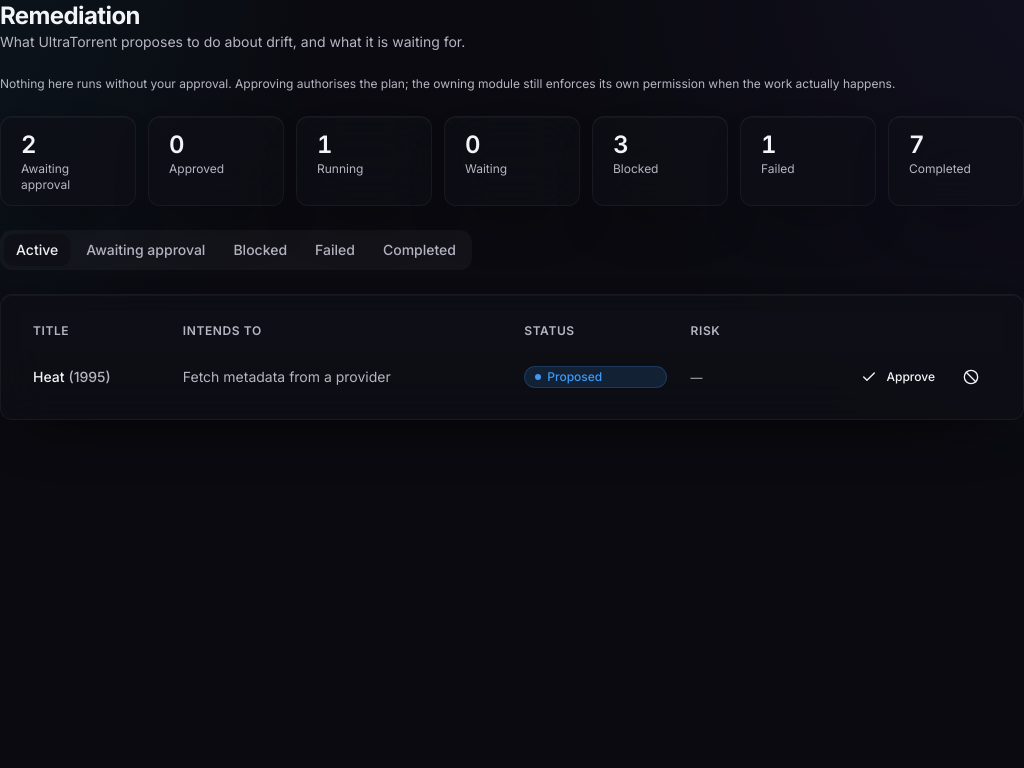
Test: stopping a plan › warns that completed work is not undone
This screenshot has width=1024, height=768.
Expected: the button "Heat" is shown, [33,367,64,387]
Click the button named "Stop": (971, 377) [951,361,991,393]
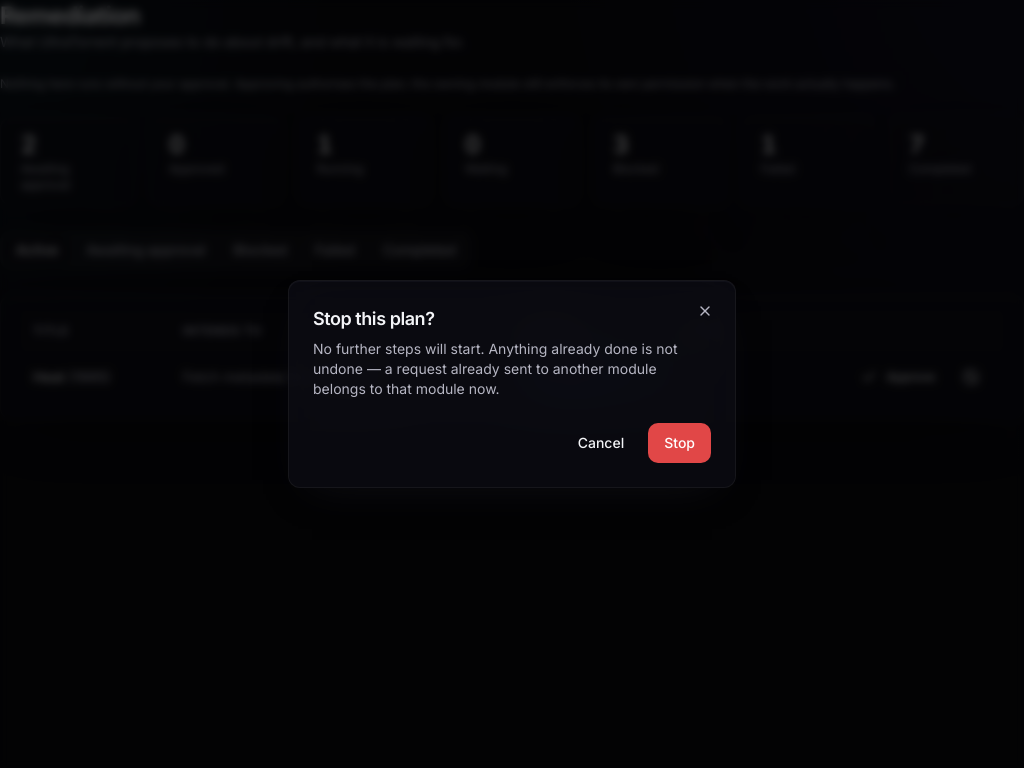
Expected: the text "already done is not undone" is shown, [313,340,678,397]
